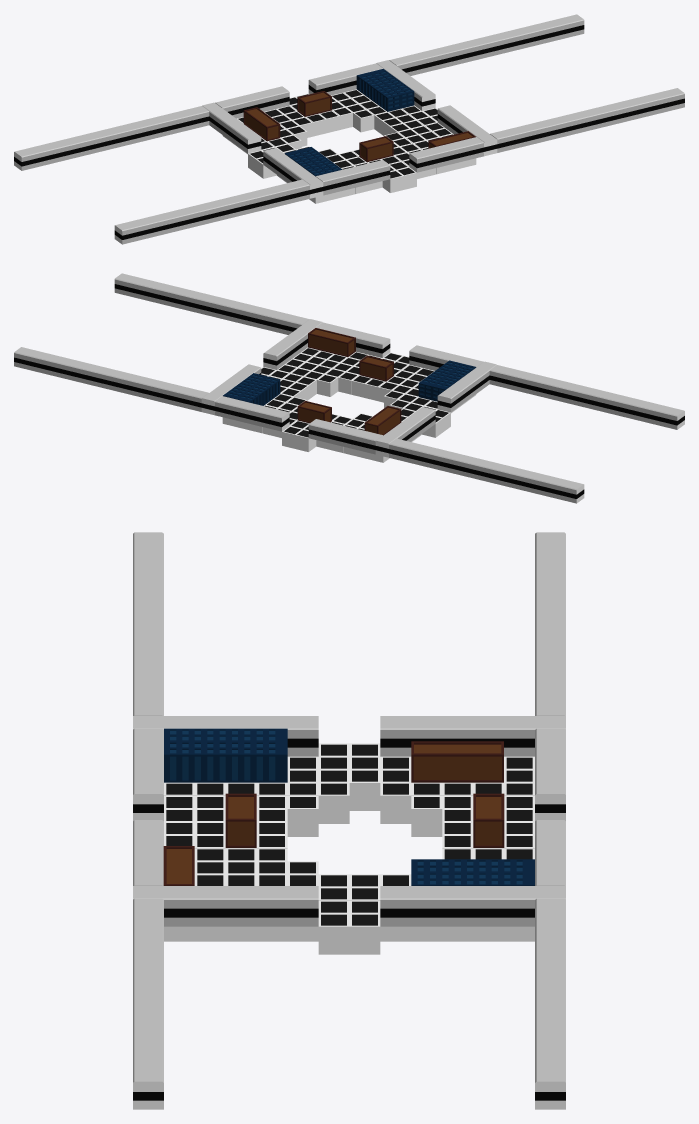
Rendered from cargoLarge0.fbx.
3 renders of one model, top to bottom at view 1: azimuth 30°, elevation 25°; view 2: azimuth 150°, elevation 25°; view 3: azimuth 270°, elevation 25°, orthographic. The views are drawn at different scales.
Visible parts, largest first — view 1: Cube.164, Cube.003, Cube.001, Cube.008, Cube.194, Cube.208, Cube.163, Cube.118, Cube.010, Cube.200, Cube.181, Cube.068 (+3 smaller); view 2: Cube.009, Cube.164, Cube.003, Cube.008, Cube.163, Cube.001, Cube.208, Cube.194, Cube.101, Cube.010, Cube.168, Cube.202 (+3 smaller); view 3: Cube.163, Cube.003, Cube.008, Cube.001, Cube.208, Cube.194, Cube.164, Cube.065, Cube.089, Cube.082, Cube.063, Cube.064 (+20 smaller).
Boxes of the visible parts, <box> form: Cube.164: <box>356,72,400,111</box>; Cube.003: <box>243,107,280,141</box>; Cube.001: <box>297,91,331,116</box>; Cube.008: <box>359,136,393,162</box>; Cube.194: <box>370,69,414,108</box>; Cube.208: <box>284,150,328,176</box>; Cube.163: <box>298,147,341,172</box>; Cube.118: <box>353,109,374,132</box>; Cube.010: <box>409,150,430,172</box>; Cube.200: <box>414,88,435,110</box>; Cube.181: <box>240,131,261,153</box>; Cube.068: <box>114,222,135,244</box>; Cube.009: <box>308,328,355,356</box>; Cube.164: <box>236,376,280,405</box>; Cube.003: <box>364,406,401,435</box>; Cube.008: <box>359,355,393,381</box>; Cube.163: <box>418,360,462,400</box>; Cube.001: <box>297,401,331,423</box>; Cube.208: <box>432,364,476,401</box>; Cube.194: <box>223,373,266,399</box>; Cube.101: <box>317,374,338,396</box>; Cube.010: <box>369,335,390,357</box>; Cube.168: <box>268,409,289,431</box>; Cube.202: <box>263,347,284,369</box>; Cube.163: <box>164,741,287,782</box>; Cube.003: <box>411,741,503,782</box>; Cube.008: <box>225,793,256,847</box>; Cube.001: <box>473,793,504,847</box>; Cube.208: <box>164,728,287,741</box>; Cube.194: <box>411,872,534,885</box>; Cube.164: <box>411,859,534,872</box>; Cube.065: <box>349,913,380,954</box>; Cube.089: <box>318,782,349,823</box>; Cube.082: <box>380,782,411,823</box>; Cube.063: <box>349,769,380,810</box>; Cube.064: <box>318,913,349,954</box>.
Bounding box in the file's own units: 8400 × 400 × 2800.
